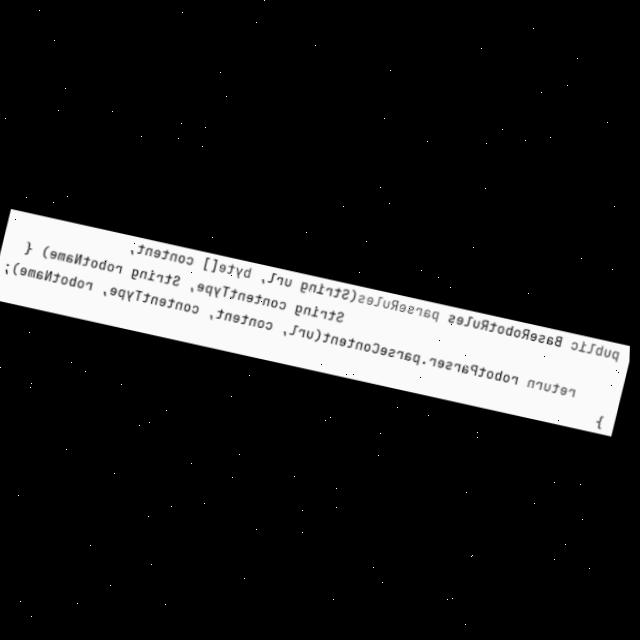code_screen: (0, 210, 630, 435)
